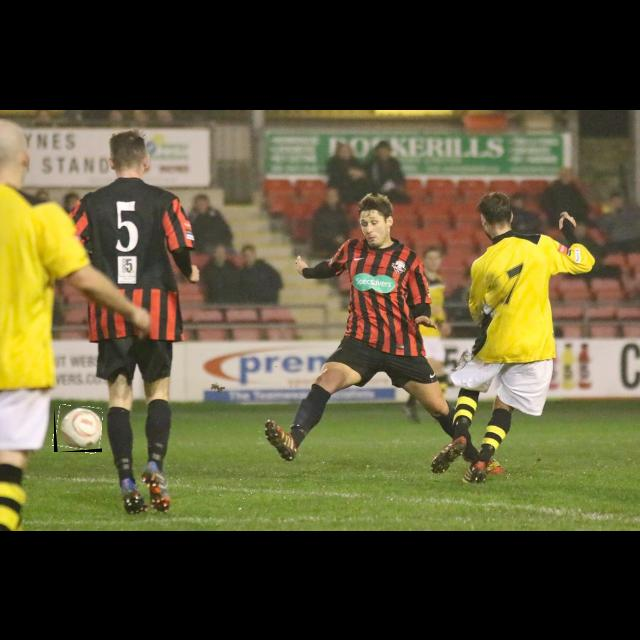Football: (54, 406, 102, 452)
